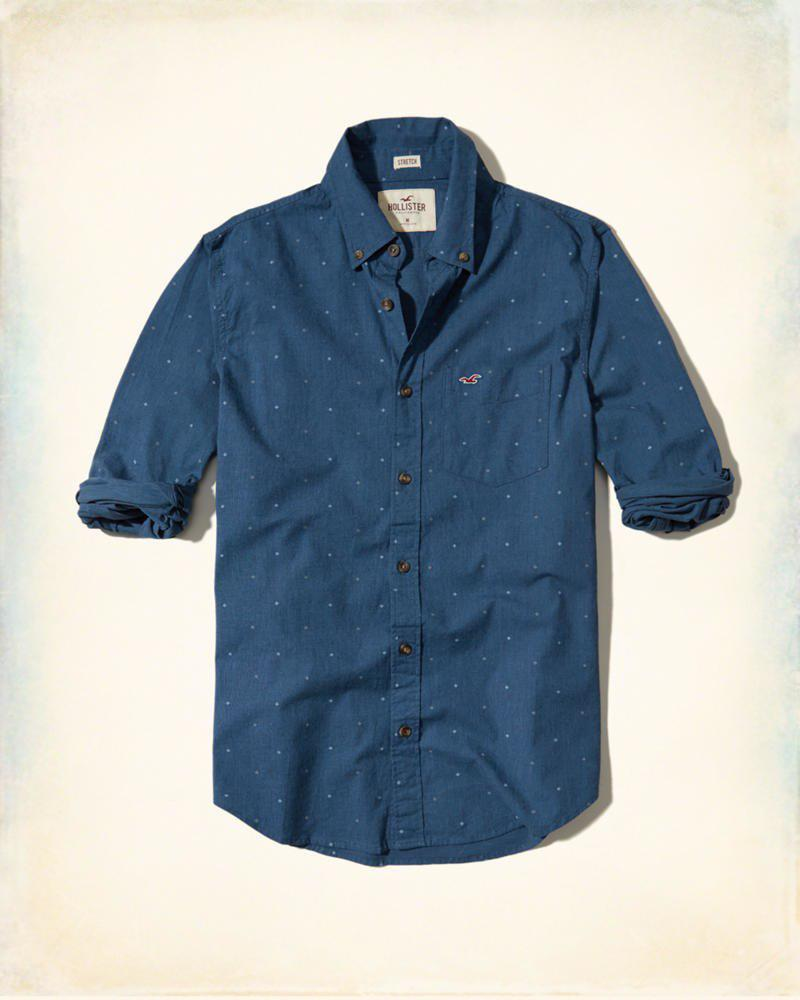teeshirt: (71, 109, 744, 872)
